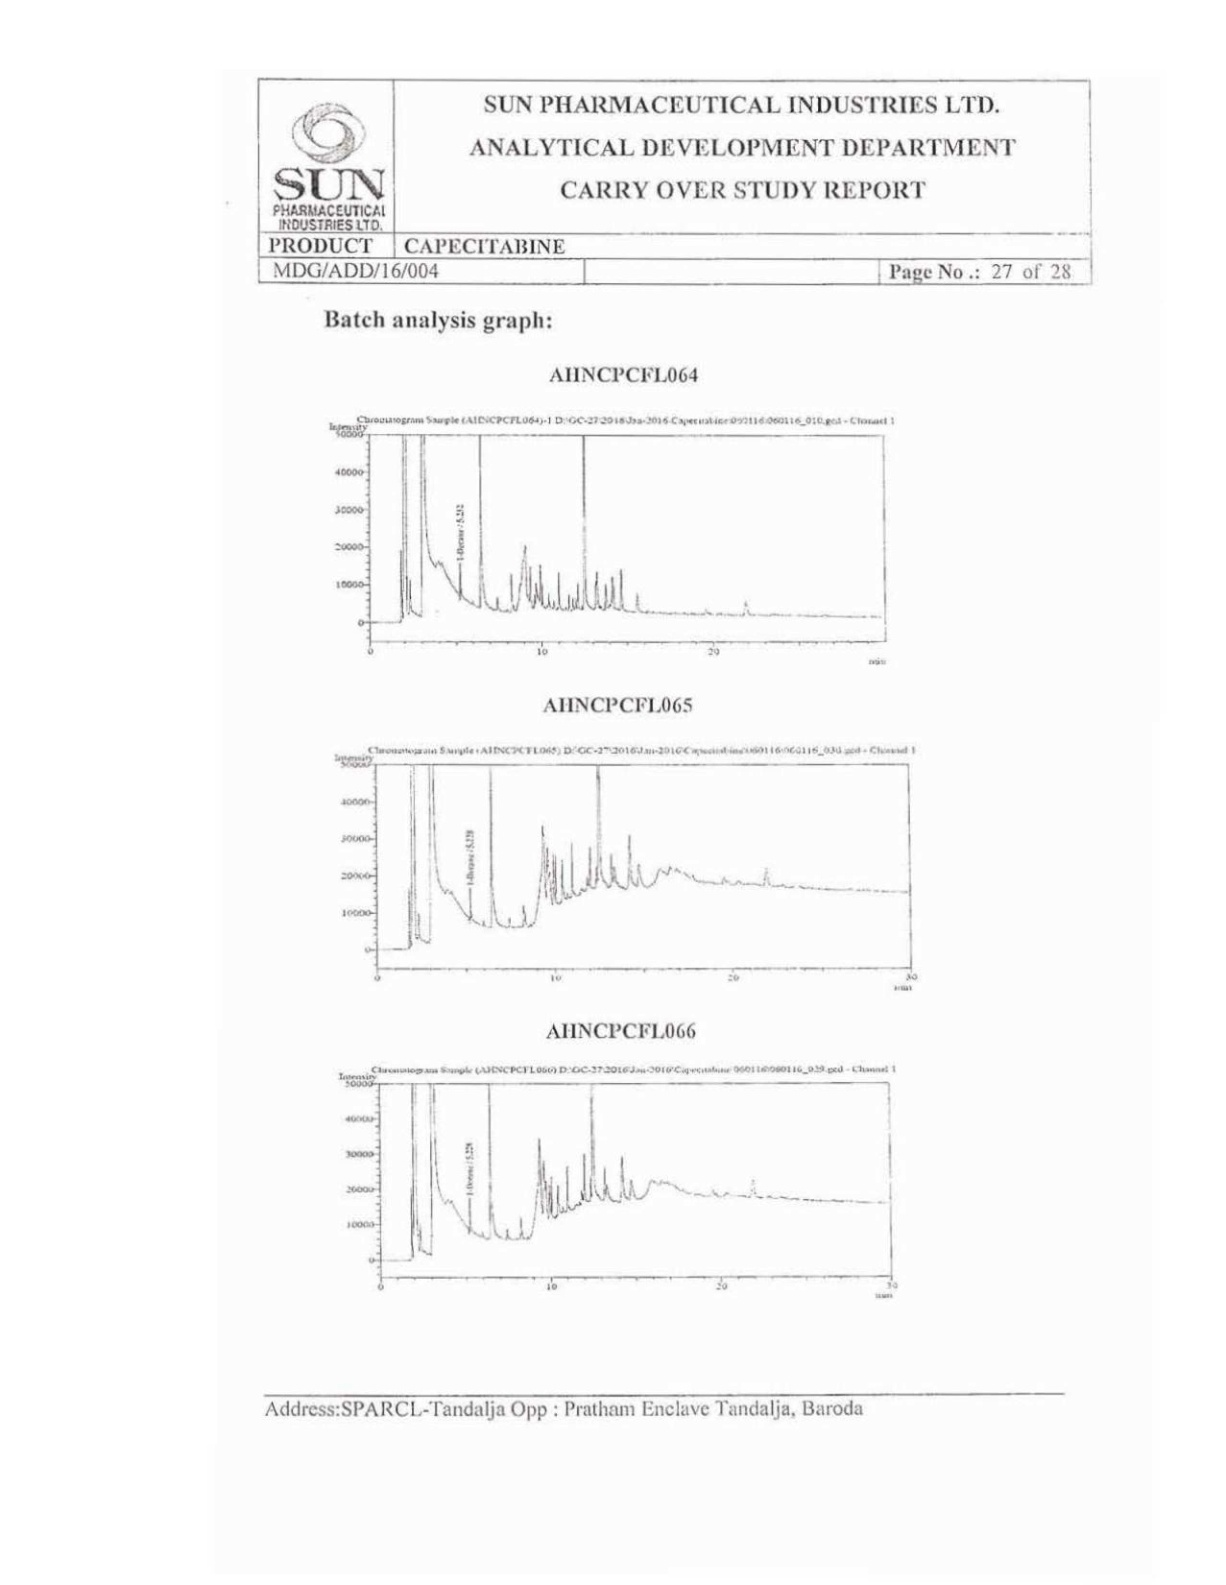merged_cells: (256, 76, 1093, 287)
